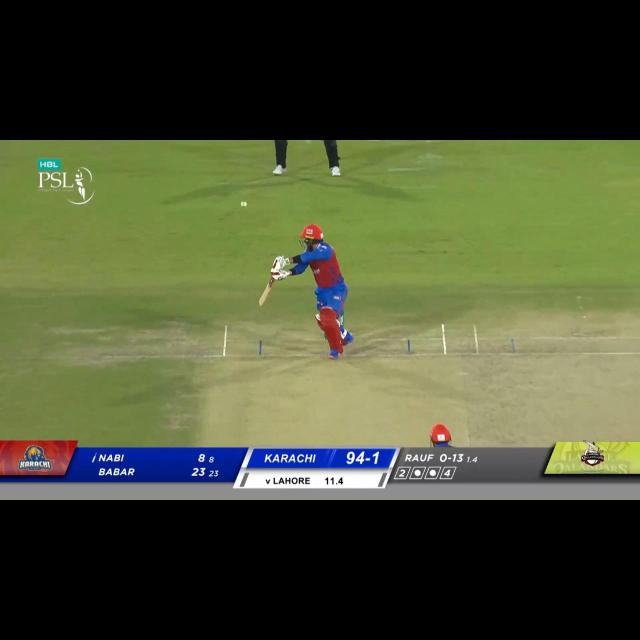bat: (256, 277, 274, 307)
toe: (256, 298, 266, 309)
